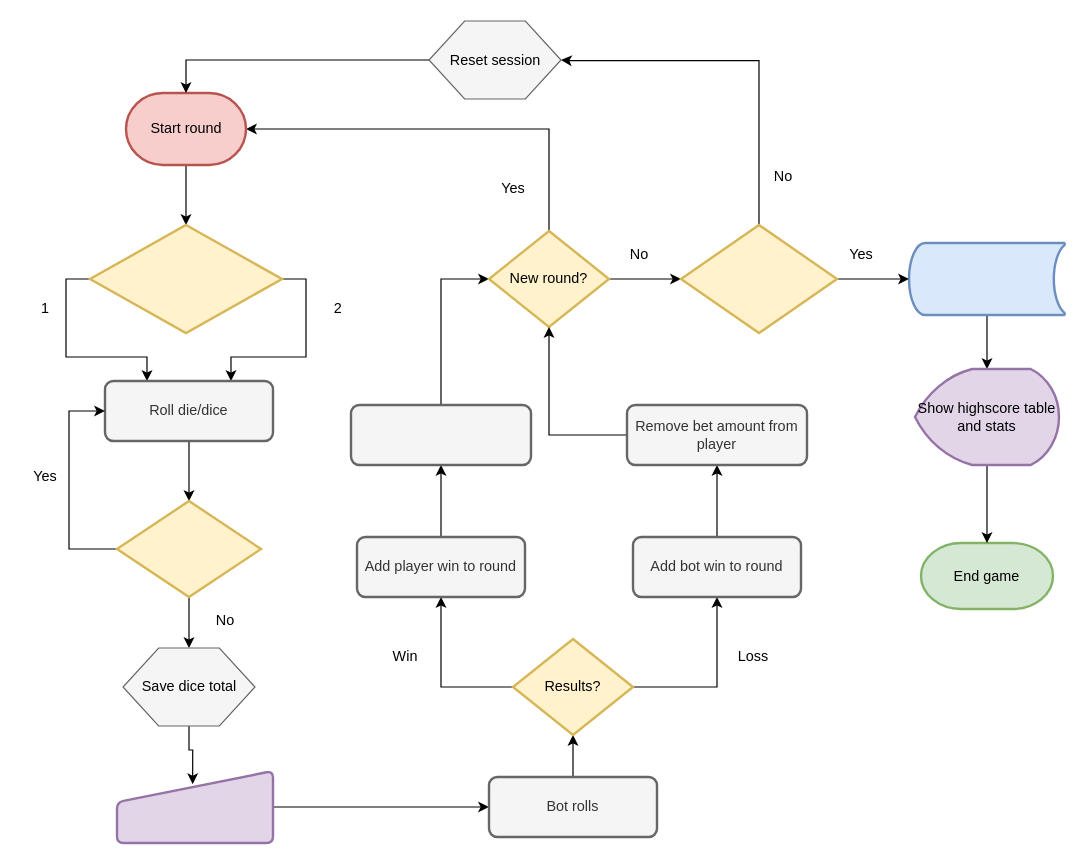
Some shapes in this 1086 by 865 pixel diagram are drawn without their labels. The box of each missing label's shape, as (x1, y1, x2, y2) in pixels:
Add bet amount to player: (349, 403, 532, 466)
Choose number of dice: (88, 223, 283, 334)
Place bet: (115, 769, 274, 844)
Re-roll die/dice?: (115, 499, 262, 598)
Save highscore: (907, 241, 1066, 316)
Save highscore?: (679, 223, 838, 334)
